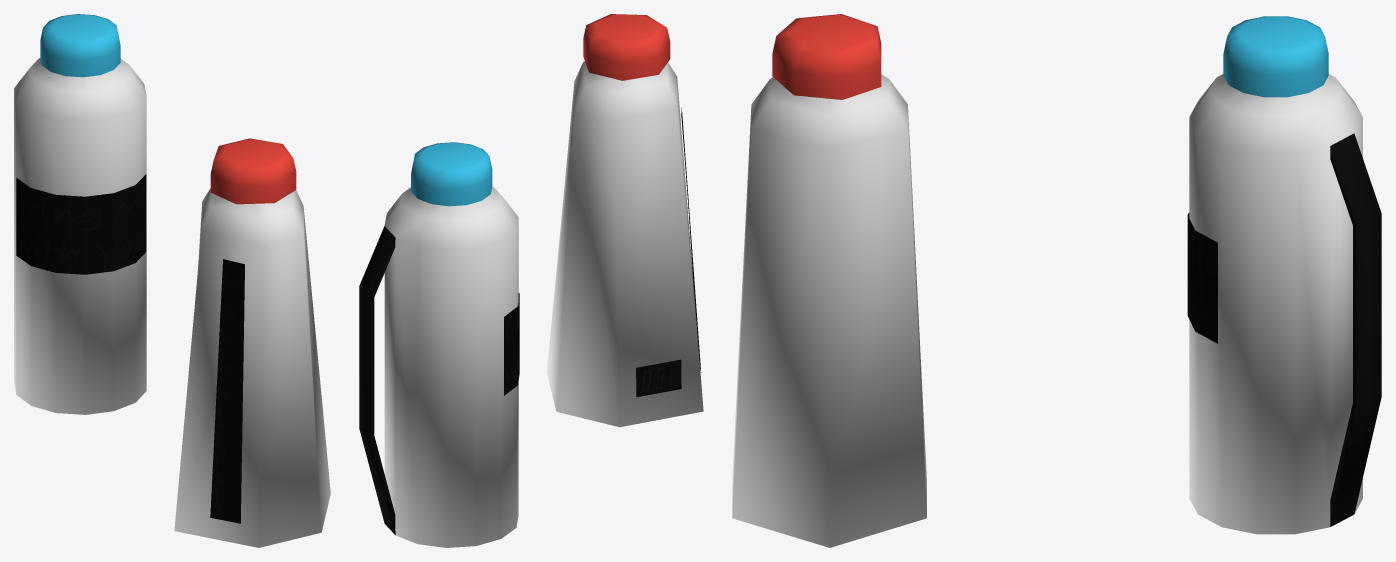
File: ReusableWaterBottles.fbx
The picture shows the model from 3 angles, left to right: view 1: azimuth 30°, elevation 25°; view 2: azimuth 150°, elevation 25°; view 3: azimuth 270°, elevation 25°; orthographic projection. The views are drawn at different scales.
Visible parts, largest first — view 1: ReusableWaterBottle, ReusableWaterBottle2; view 2: ReusableWaterBottle, ReusableWaterBottle2; view 3: ReusableWaterBottle, ReusableWaterBottle2.
Boxes of the visible parts, x1,y1,x2,y2 form: ReusableWaterBottle: (14,14,146,414); ReusableWaterBottle2: (174,138,330,547); ReusableWaterBottle: (359,142,519,547); ReusableWaterBottle2: (547,14,703,427); ReusableWaterBottle: (1187,16,1381,534); ReusableWaterBottle2: (732,14,926,547).
Size of the model in its own units: 32.94 by 72.79 by 91.86.
